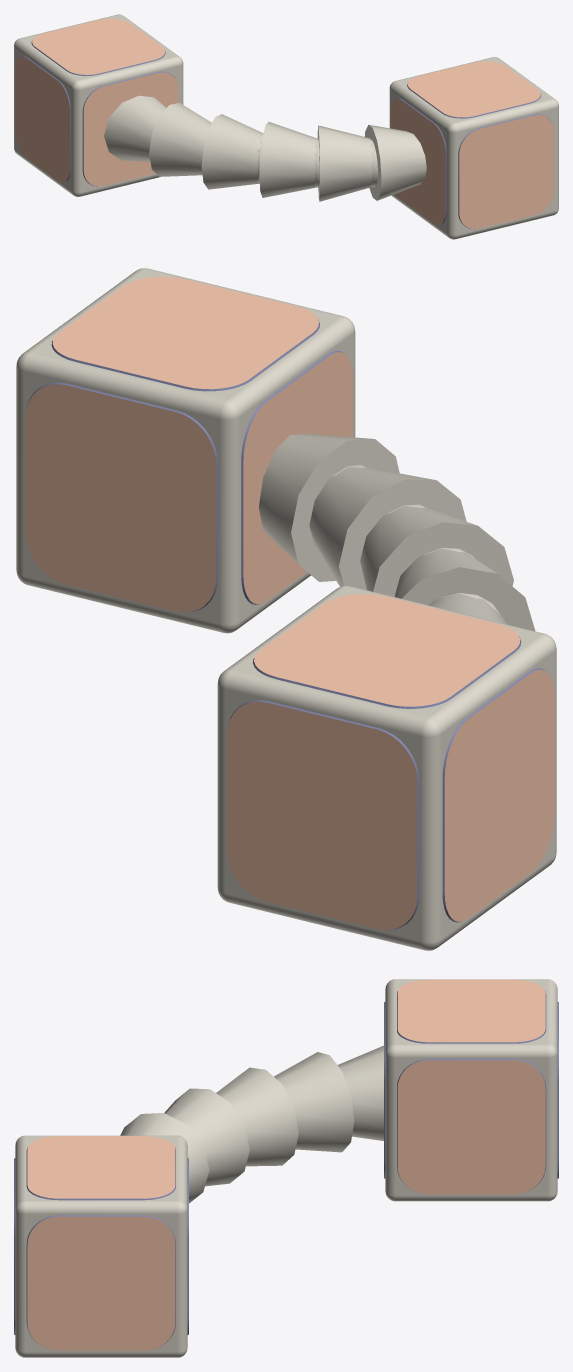
The model's file is R4C_STRUT_ARC.fbx.
3 views of the same model, one above another, from view 1: azimuth 30°, elevation 25°; view 2: azimuth 150°, elevation 25°; view 3: azimuth 270°, elevation 25° (orthographic). The views are drawn at different scales.
Parts seen in each view (by area): view 1: R4C_STRUT_ARC; view 2: R4C_STRUT_ARC; view 3: R4C_STRUT_ARC.
Boxes of the visible parts, left/top/right/bottom form: R4C_STRUT_ARC: left=14, top=14, right=558, bottom=239; R4C_STRUT_ARC: left=16, top=268, right=556, bottom=950; R4C_STRUT_ARC: left=14, top=979, right=558, bottom=1357.
Size of the model in its own units: 1.62 by 0.52 by 1.62.
